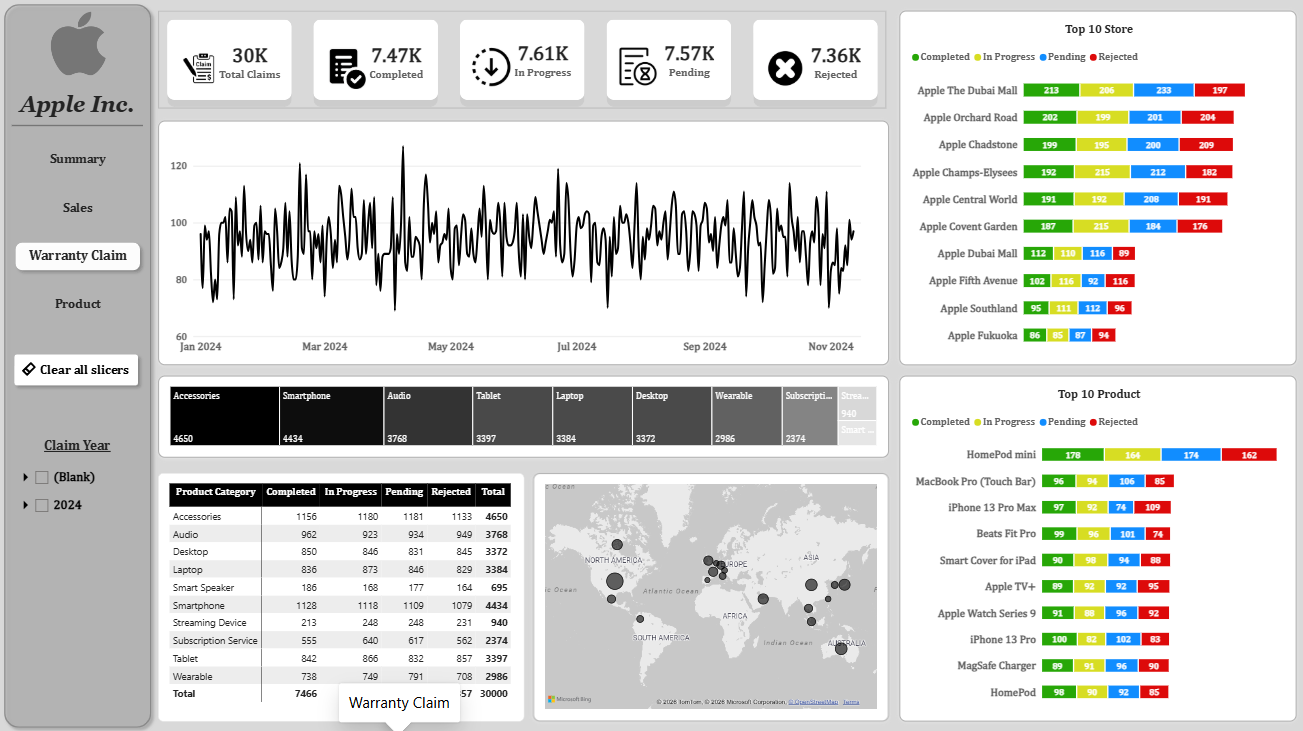

What the dashboard file says about the page in this screenshot:
{"tool":"powerbi","page":{"name":"Warranty Claim","canvas":[1920,1080],"ordinal":2},"visuals":[{"type":"shape","box":[0,0,234,1080],"z":0,"group":"g2"},{"type":"cardVisual","fields":{"Data":["Calcule_KPI.Number_of_Claim","Calcule_KPI.Completed","Calcule_KPI.In Progress","Calcule_KPI.Pending","Calcule_KPI.Rejected"]},"box":[234.8,18.3,1073,144.9],"z":0},{"type":"image","box":[55,18.3,124,106],"z":1000,"group":"g1"},{"type":"lineChart","title":"Total Warranty Claim by Day","fields":{"Category":["warranty.claim_date.Variation.Date Hierarchy.Year","warranty.claim_date.Variation.Date Hierarchy.Quarter","warranty.claim_date.Variation.Date Hierarchy.Month","warranty.claim_date.Variation.Date Hierarchy.Day"],"Y":["Calcule_KPI.Number_of_Claim"]},"box":[234.8,179.8,1073,359.5],"z":1000},{"type":"textbox","box":[20,138,192,50],"z":2000,"group":"g2"},{"type":"treemap","title":"Product Category","fields":{"Group":["category.category_name"],"Values":["Calcule_KPI.Number_of_Claim"]},"box":[234.8,553.9,1073,121.1],"z":2000},{"type":"barChart","title":"Top 10 Product","fields":{"Category":["products.Product_Name"],"Series":["warranty.repair_status"],"Y":["Calcule_KPI.Number_of_Claim"]},"box":[1322.5,553.9,583.3,508.1],"z":3000},{"type":"barChart","title":"Top 10 Store","fields":{"Category":["stores.Store_Name"],"Series":["warranty.repair_status"],"Y":["Calcule_KPI.Number_of_Claim"]},"box":[1322.5,18.3,583.3,520.9],"z":4000},{"type":"shape","box":[20.2,179.8,192.6,14.7],"z":5000},{"type":"group","id":"g1","title":"Group 1","box":[0,0,234,1080],"z":6000},{"type":"slicer","title":"Claim Year","fields":{"Values":["warranty.claim_date.Variation.Date Hierarchy.Year","warranty.claim_date.Variation.Date Hierarchy.Quarter","warranty.claim_date.Variation.Date Hierarchy.Month","warranty.claim_date.Variation.Date Hierarchy.Day"]},"box":[20.2,643.8,192.6,218.3],"z":7000},{"type":"pivotTable","fields":{"Columns":["warranty.repair_status"],"Rows":["category.category_name"],"Values":["Calcule_KPI.Number_of_Claim"]},"box":[234.8,697,537.4,365],"z":8000},{"type":"map","fields":{"Category":["stores.Country"],"Size":["Calcule_KPI.Number_of_Claim"]},"box":[785.1,697,522.8,365],"z":9000},{"type":"group","id":"g2","title":"Group 2","box":[0,0,234,1080],"z":9001,"group":"g1"},{"type":"pageNavigator","box":[16.5,207.3,201.8,273.3],"z":9001},{"type":"actionButton","box":[14.7,513.6,199.9,64.2],"z":9002}]}

Visuals, with their boxes on the page's 1920x1080 design canvas (x1, y1, x2, y2). These are canvas units, not pixel positions in the 1303x731 screenshot, which may show the page scaled, cropped or inside an application window:
shape: {"x1": 0, "y1": 0, "x2": 234, "y2": 1080}
cardVisual - Calcule_KPI.Number_of_Claim x Calcule_KPI.Completed: {"x1": 235, "y1": 18, "x2": 1308, "y2": 163}
image: {"x1": 55, "y1": 18, "x2": 179, "y2": 124}
"Total Warranty Claim by Day" lineChart: {"x1": 235, "y1": 180, "x2": 1308, "y2": 539}
textbox: {"x1": 20, "y1": 138, "x2": 212, "y2": 188}
"Product Category" treemap: {"x1": 235, "y1": 554, "x2": 1308, "y2": 675}
"Top 10 Product" barChart: {"x1": 1322, "y1": 554, "x2": 1906, "y2": 1062}
"Top 10 Store" barChart: {"x1": 1322, "y1": 18, "x2": 1906, "y2": 539}
shape: {"x1": 20, "y1": 180, "x2": 213, "y2": 194}
"Group 1" group: {"x1": 0, "y1": 0, "x2": 234, "y2": 1080}
"Claim Year" slicer: {"x1": 20, "y1": 644, "x2": 213, "y2": 862}
pivotTable - warranty.repair_status x category.category_name: {"x1": 235, "y1": 697, "x2": 772, "y2": 1062}
map - stores.Country x Calcule_KPI.Number_of_Claim: {"x1": 785, "y1": 697, "x2": 1308, "y2": 1062}
"Group 2" group: {"x1": 0, "y1": 0, "x2": 234, "y2": 1080}
pageNavigator: {"x1": 16, "y1": 207, "x2": 218, "y2": 481}
actionButton: {"x1": 15, "y1": 514, "x2": 215, "y2": 578}
